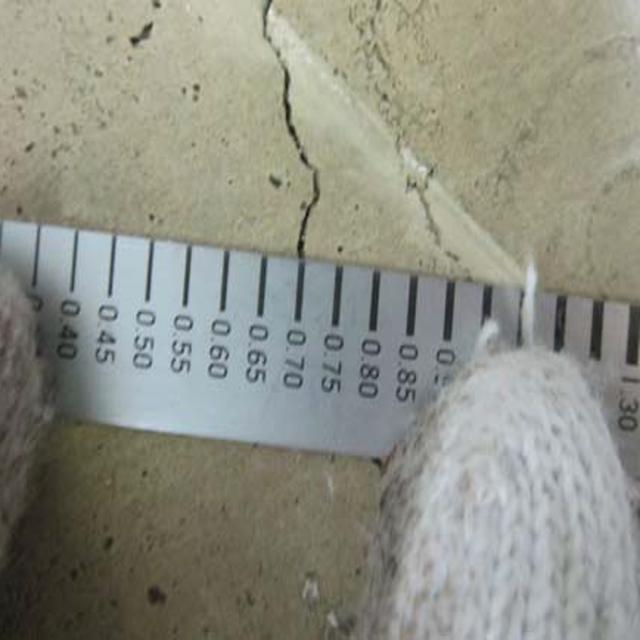crack: (250, 10, 324, 254)
